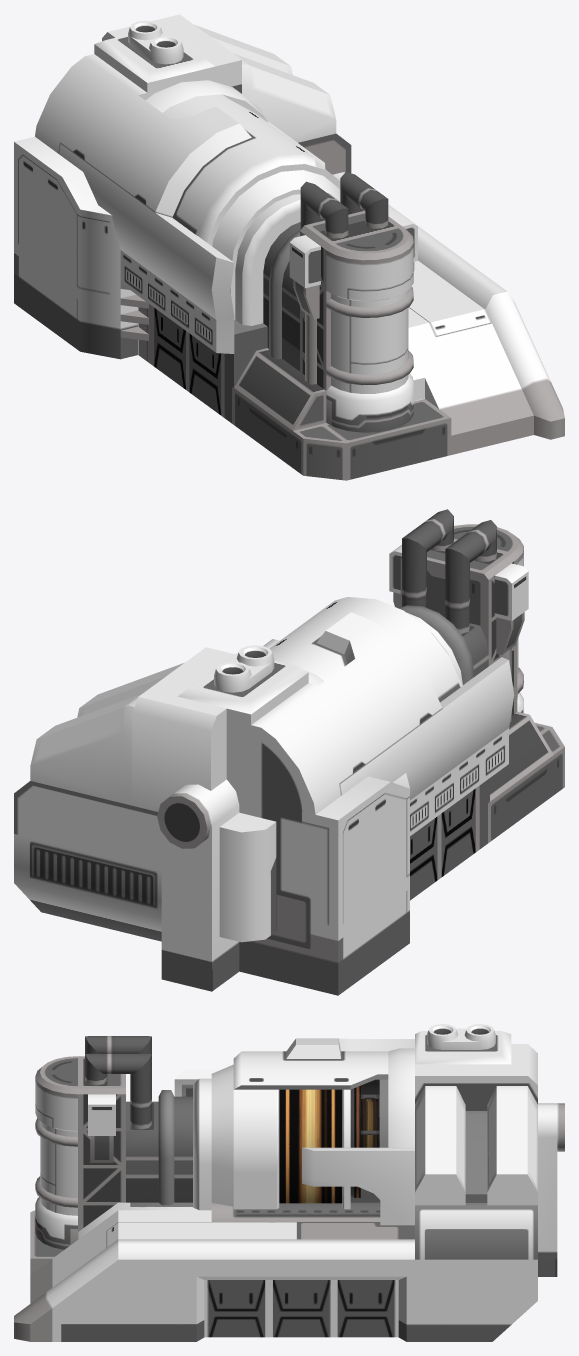
File: power-generator.glb
3 views of the same model, one above another, from view 1: azimuth 30°, elevation 25°; view 2: azimuth 150°, elevation 25°; view 3: azimuth 270°, elevation 25° (orthographic). The views are drawn at different scales.
Visible parts, largest first — view 1: power-generator; view 2: power-generator; view 3: power-generator.
Part boxes in pixels (x1,y1,x2,y2): power-generator: [14, 14, 564, 480]; power-generator: [14, 509, 564, 995]; power-generator: [14, 1024, 564, 1341].
Bounding box in the file's own units: 4.6 × 4.03 × 8.51.
Materials: 4 (3 with a texture image).
